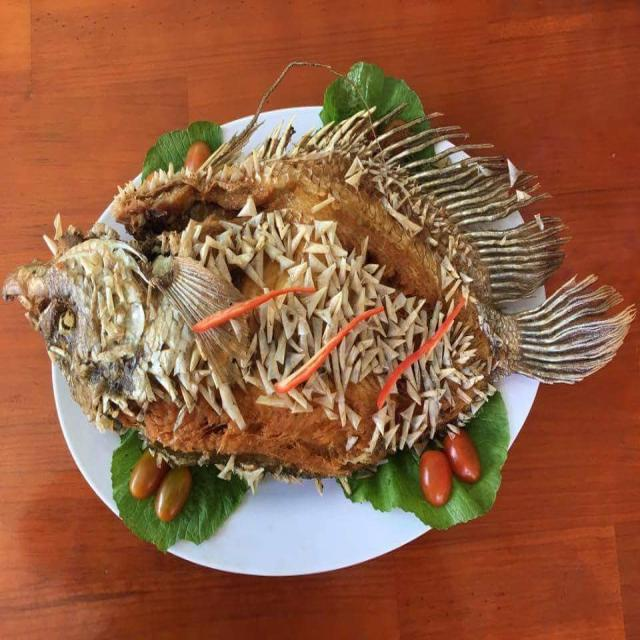Wet Waste: (9, 107, 621, 485)
